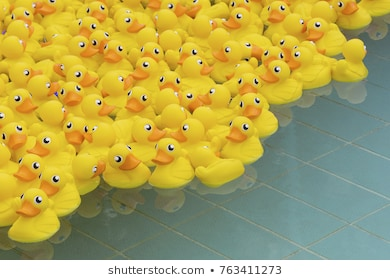duck: (3, 188, 67, 251)
